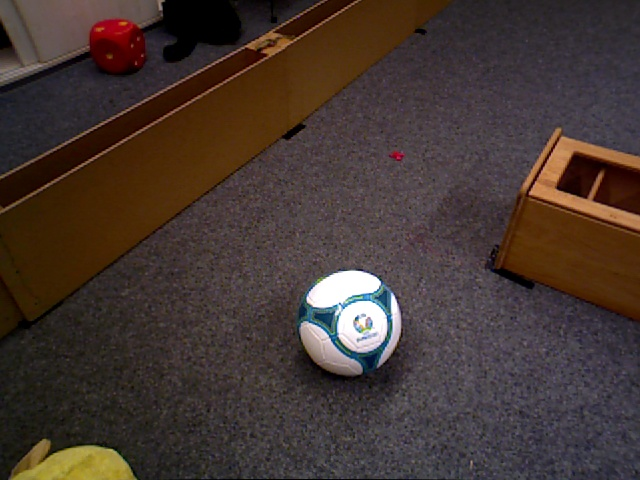grasp: (4, 444, 132, 480)
kick: (298, 268, 403, 377)
